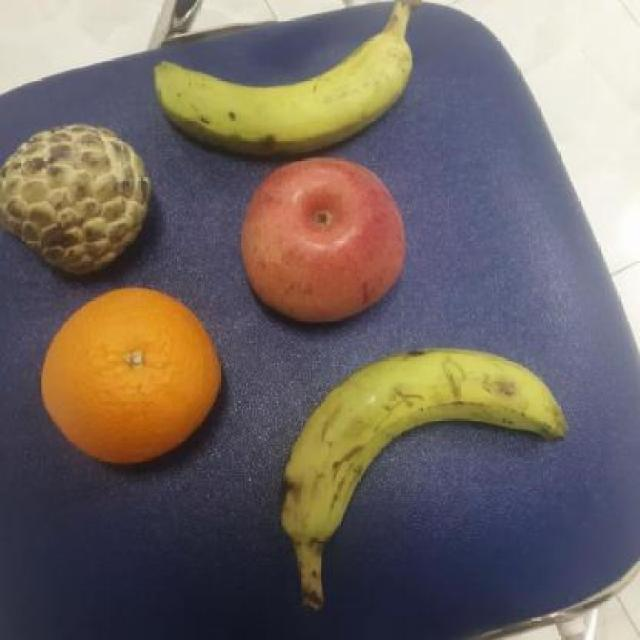apple: (242, 157, 406, 323)
banana: (275, 345, 570, 609), (153, 0, 427, 155)
oren: (39, 287, 222, 461)
sugar apple: (0, 119, 152, 275)
